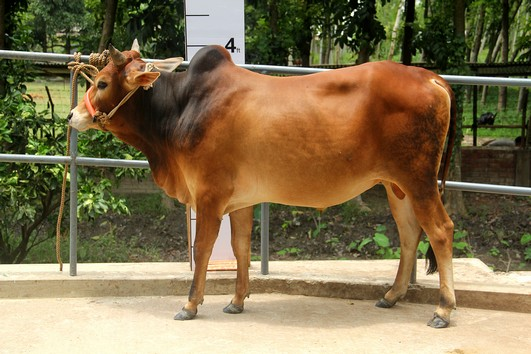cow: (65, 29, 478, 333)
